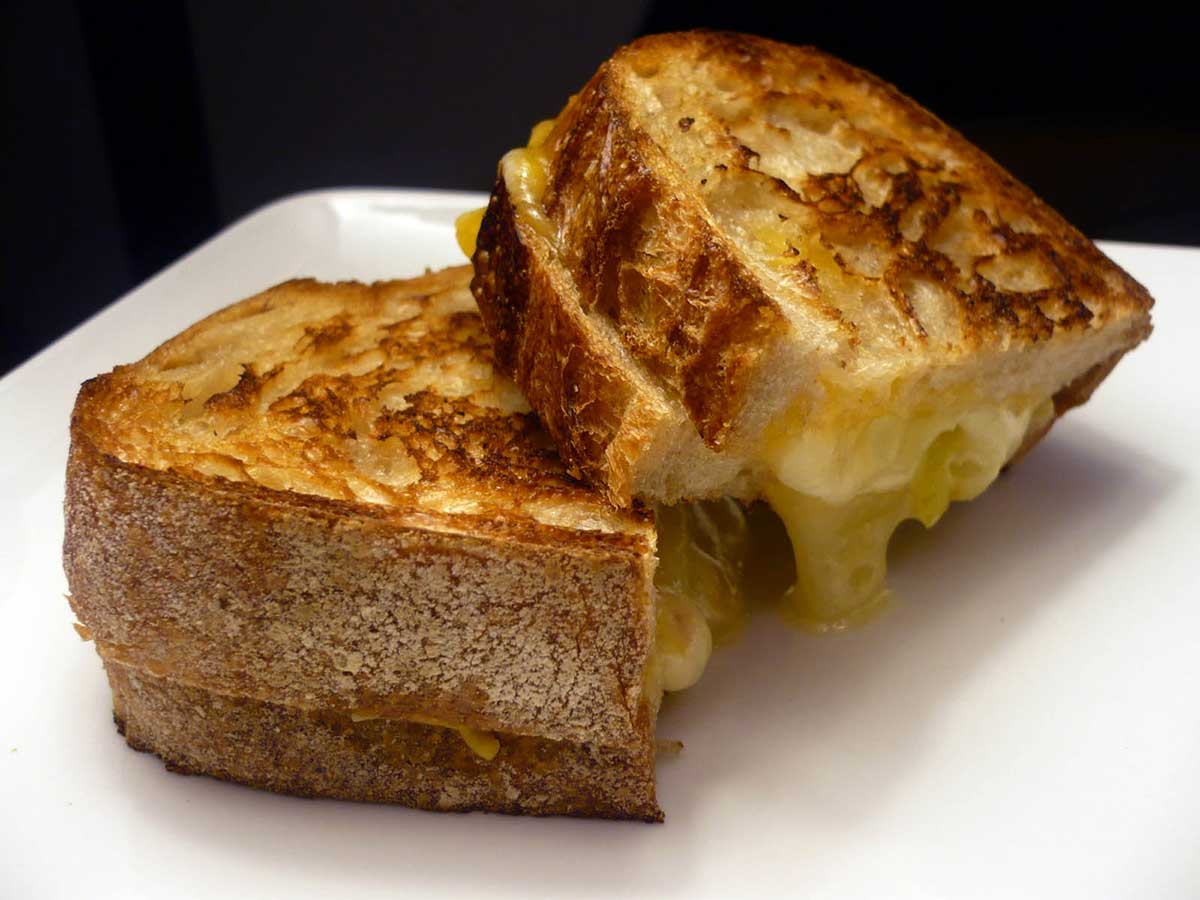sandwich: (9, 7, 1200, 893)
